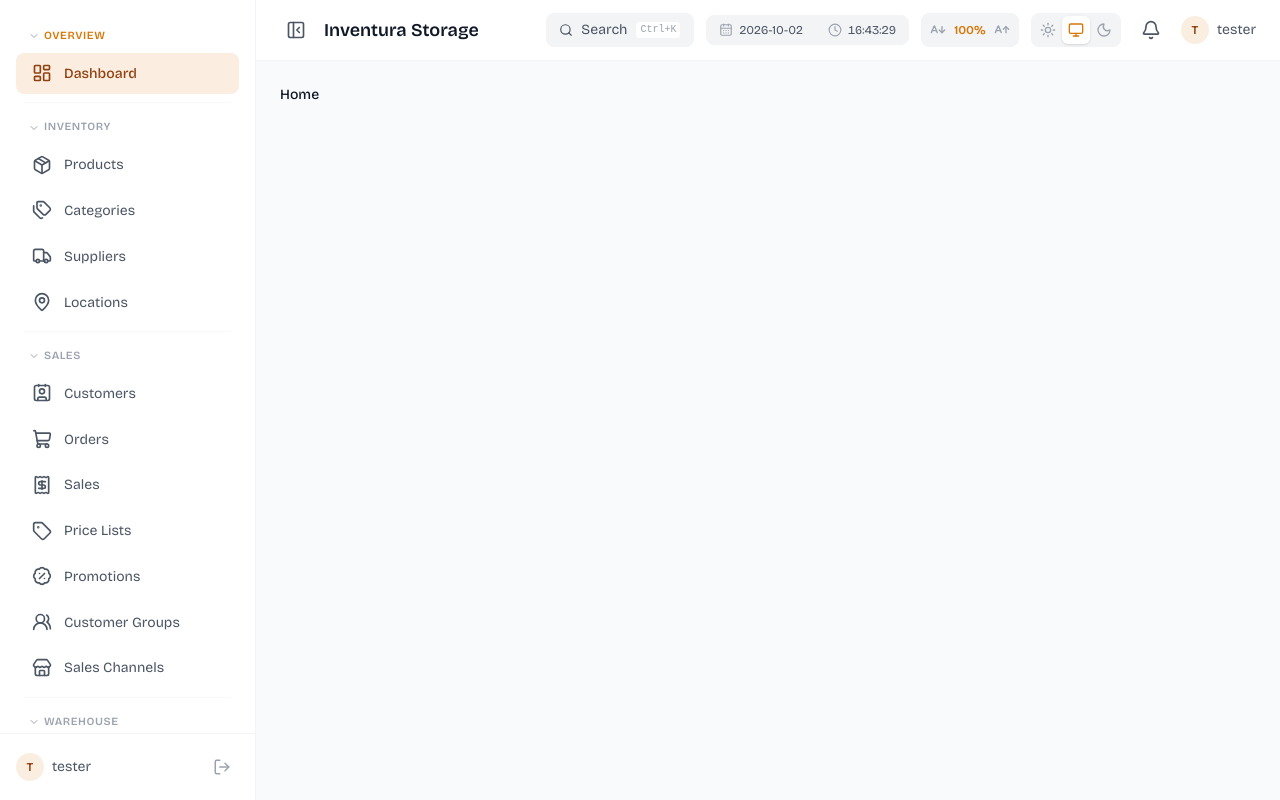
Test: Layout › resets the root font size with the percent control
Click the button titled "Increase font size".
click(1002, 30)  # box 988,16 -> 1016,44
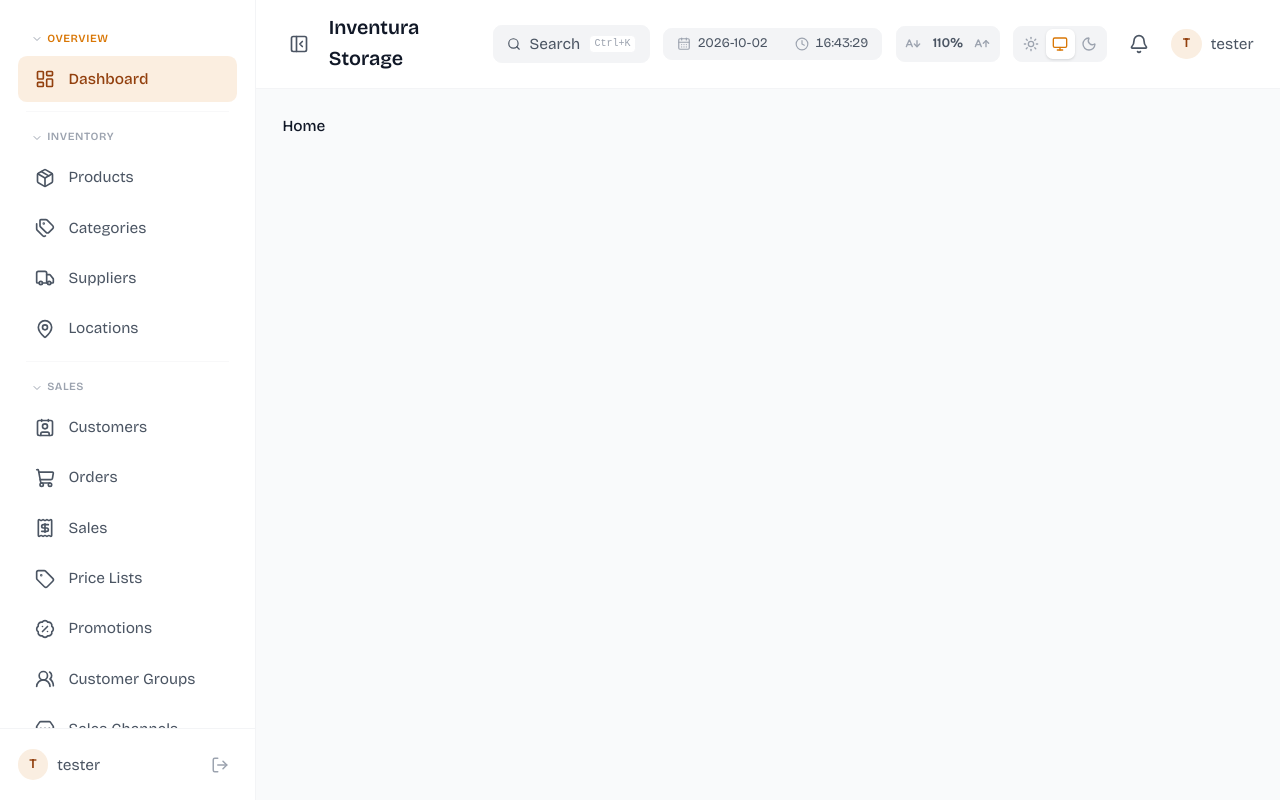
Click the button titled "Reset font size".
click(948, 44)  # box 928,35 -> 968,53
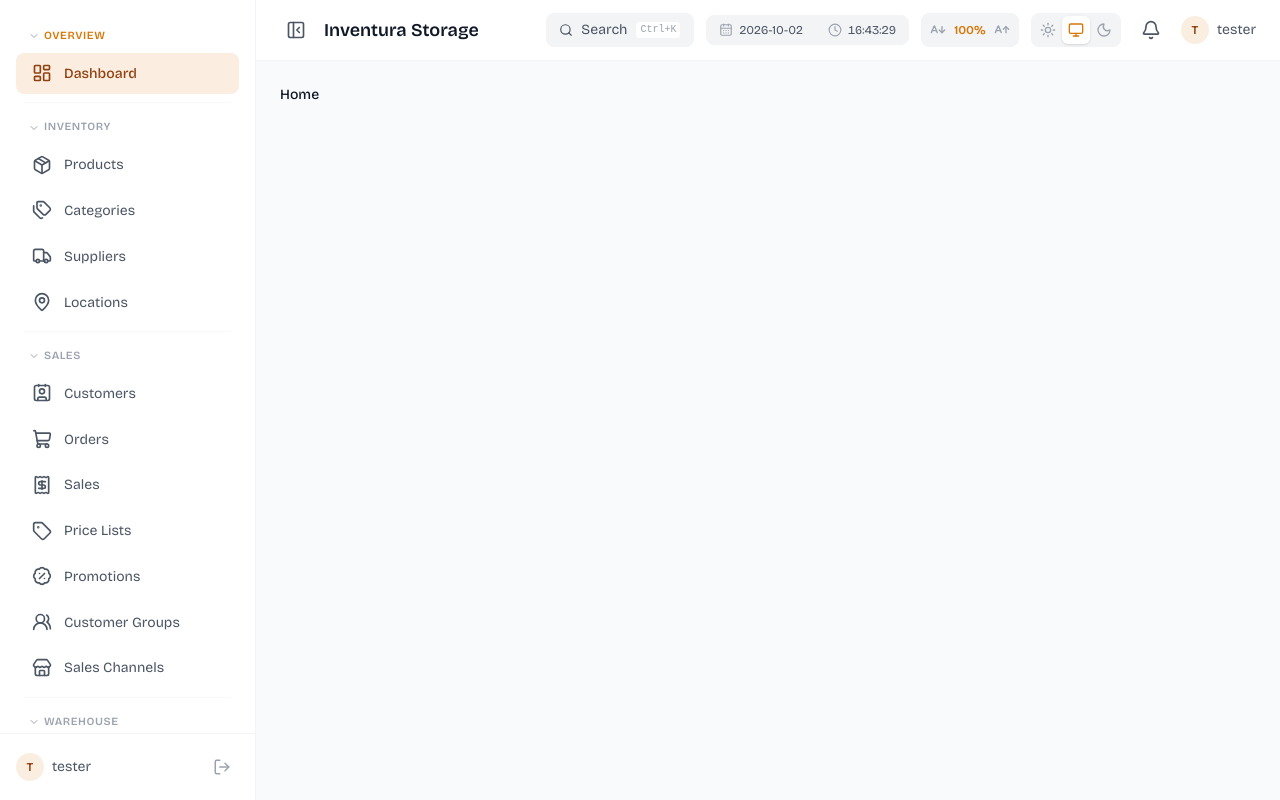
Check: the button "100%" is shown, box 952,22 -> 988,38
